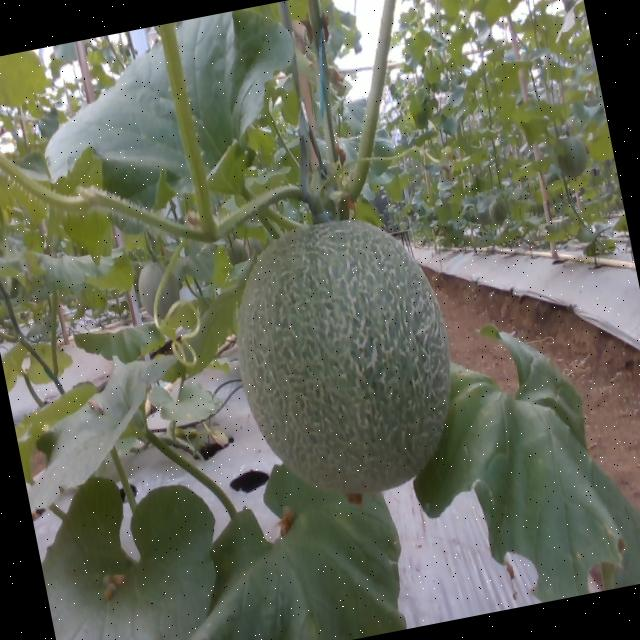melon: (239, 220, 450, 495)
